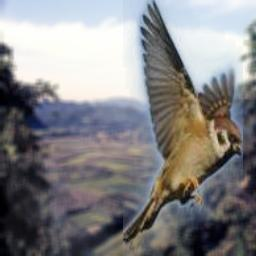Sparrow: (123, 0, 243, 256)
